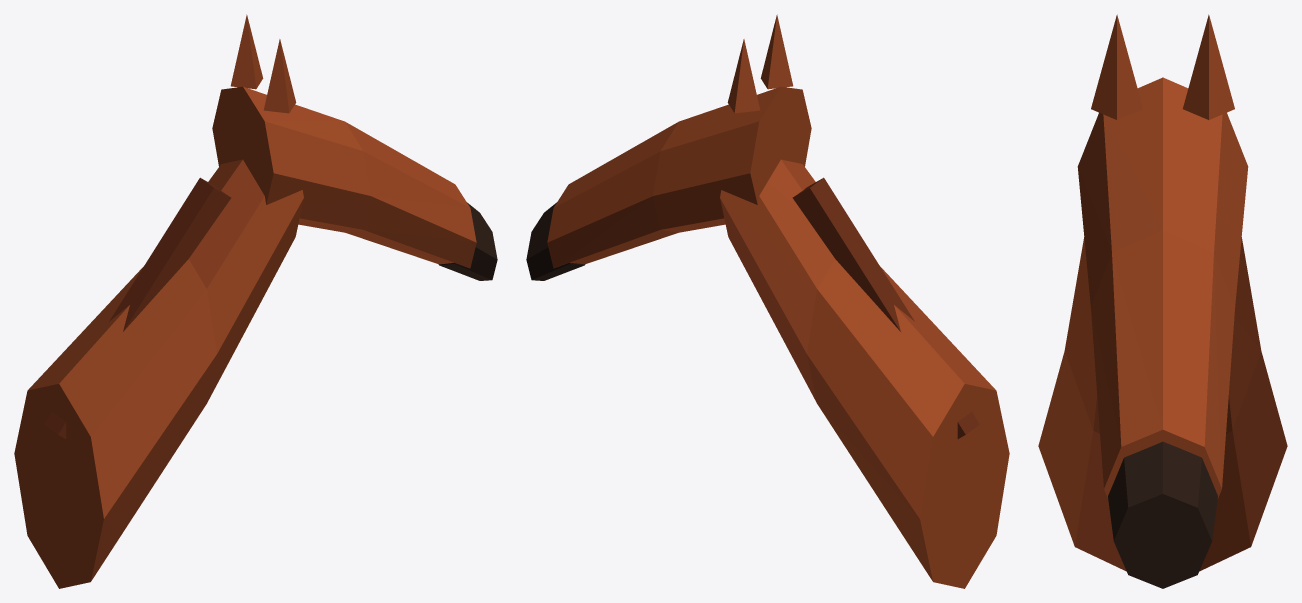
File: carreta_head_alazan.obj
The picture shows the model from 3 angles, left to right: view 1: azimuth 30°, elevation 25°; view 2: azimuth 150°, elevation 25°; view 3: azimuth 270°, elevation 25°; orthographic projection. The views are drawn at different scales.
Parts seen in each view (by area): view 1: carreta_head_alazan; view 2: carreta_head_alazan; view 3: carreta_head_alazan.
Part boxes in pixels (bbox=[...]): carreta_head_alazan: bbox=[14, 14, 497, 588]; carreta_head_alazan: bbox=[526, 14, 1009, 588]; carreta_head_alazan: bbox=[1038, 14, 1287, 588].
Size of the model in its own units: 1.05 by 1.2 by 0.38.
